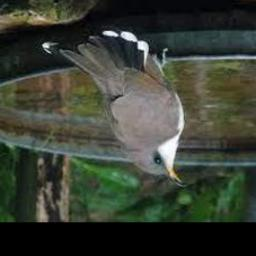Cuckoo: (43, 32, 188, 187)
